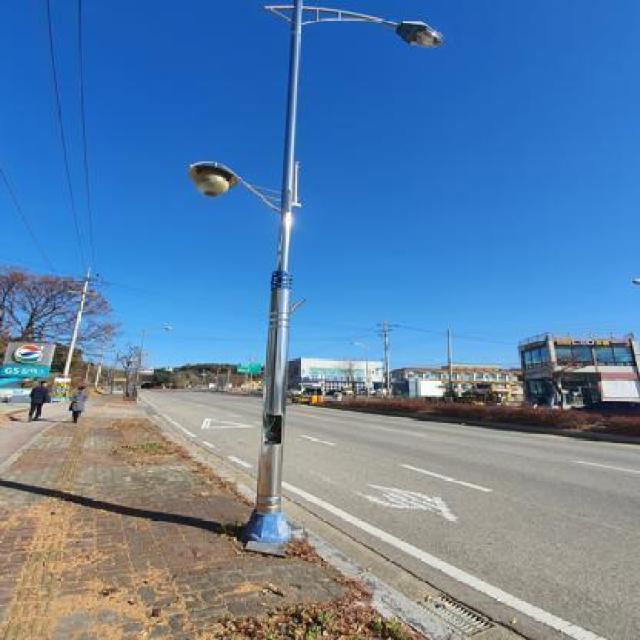pole: (238, 2, 336, 549)
